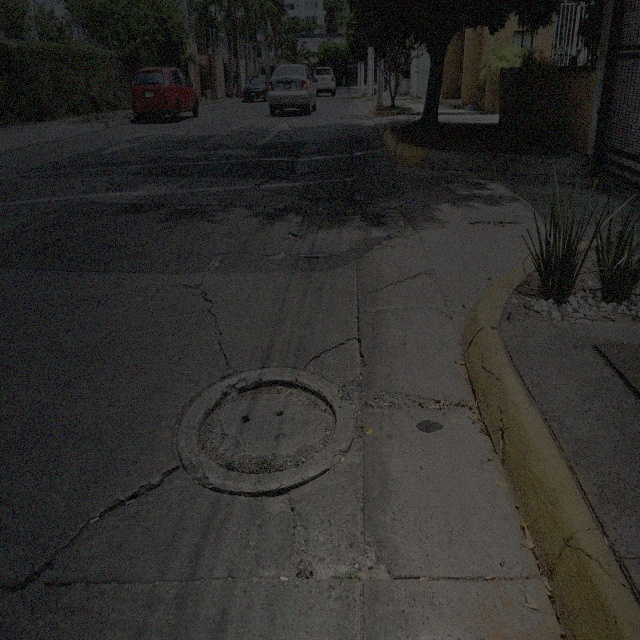pothole: (288, 377, 337, 420), (359, 537, 394, 584), (198, 406, 224, 467), (258, 486, 295, 520), (242, 378, 293, 402), (346, 419, 365, 472)
